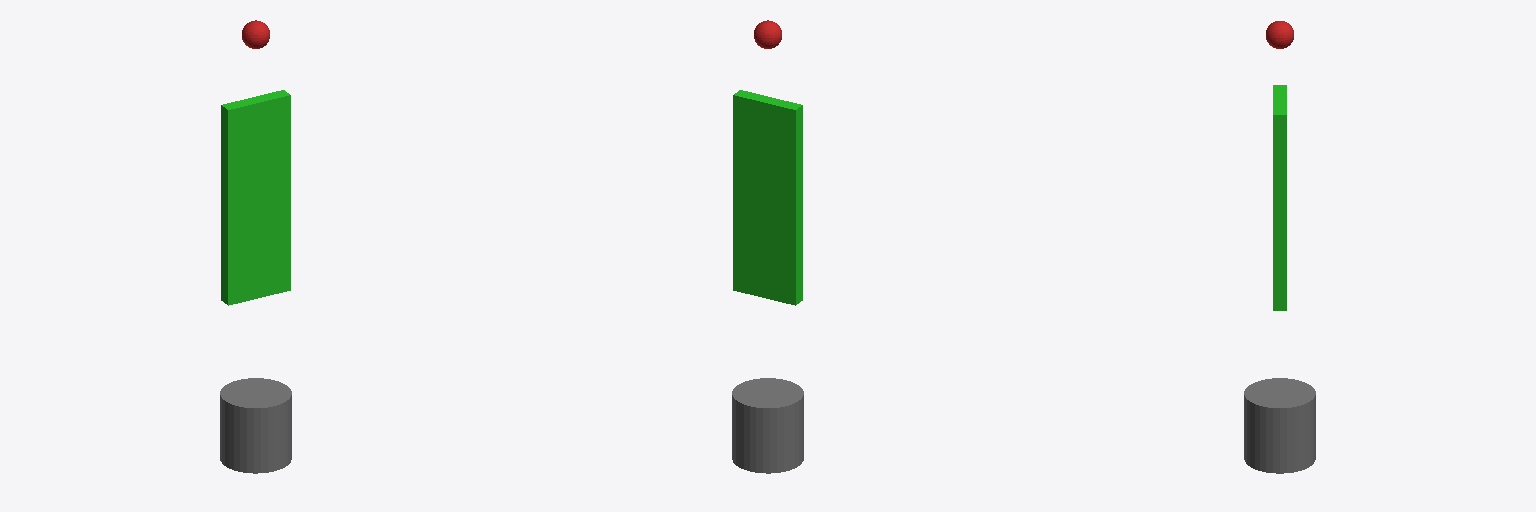
The robot description file, URDF, robot "scara_robot":
<?xml version="1.0" encoding="utf-8"?>
<!-- Descrição do robô SCARA com 3 juntas principais -->
<robot name="scara_robot">

  <!-- Link base -->
  <link name="base_footprint">
      <!-- Representação visual da base -->
      <visual>
          <origin xyz="0 0 0" rpy="0 0 0" />
          <geometry>
              <box size="0.001 0.001 0.001" />
          </geometry>
      </visual>
  </link>

  <!-- Junta rotacional na base -->
  <joint name="base_joint" type="revolute">
      <!-- Origem da junta rotacional -->
      <origin xyz="0 0 0.1" rpy="0 0 0" />
      <!-- Link pai: base_footprint -->
      <parent link="base_footprint"/>
      <!-- Link filho: base_link -->
      <child link="base_link"/>
      <!-- Eixo de rotação -->
      <axis xyz="0 0 1" />
      <!-- Limites da rotação -->
      <limit lower="-3.14" upper="3.14" effort="5.0" velocity="1.0" />
  </joint>

  <!-- Link conectado à junta rotacional -->
  <link name="base_link">
      <visual>
          <origin xyz="0 0 0" rpy="0 0 0" />
          <geometry>
              <cylinder radius="0.05" length="0.1" />
          </geometry>
          <material name="">
              <color rgba="0.5 0.5 0.5 1" />
          </material>
      </visual>
  </link>

  <!-- Junta prismática no meio -->
  <joint name="prismatic_joint" type="prismatic">
      <!-- Origem da junta prismática -->
      <origin xyz="0 0 0.2" rpy="0 0 0" />
      <!-- Link pai: base_link -->
      <parent link="base_link"/>
      <!-- Link filho: arm_link -->
      <child link="arm_link"/>
      <!-- Eixo de movimentação prismática -->
      <axis xyz="0 0 1" />
      <!-- Limites do movimento prismático -->
      <limit lower="0.0" upper="0.3" effort="5.0" velocity="0.5" />
  </joint>

  <!-- Link do braço do robô -->
  <link name="arm_link">
      <visual>
          <origin xyz="0 0 0.15" rpy="0 0 0" />
          <geometry>
              <box size="0.1 0.02 0.3" />
          </geometry>
          <material name="">
              <color rgba="0.2 0.8 0.2 1" />
          </material>
      </visual>
  </link>

  <!-- Junta rotacional antes do end effector -->
  <joint name="end_effector_joint" type="revolute">
      <!-- Origem da junta rotacional -->
      <origin xyz="0 0 0.4" rpy="0 0 0" />
      <!-- Link pai: arm_link -->
      <parent link="arm_link"/>
      <!-- Link filho: end_effector -->
      <child link="end_effector"/>
      <!-- Eixo de rotação -->
      <axis xyz="0 0 1" />
      <!-- Limites da rotação -->
      <limit lower="-1.57" upper="1.57" effort="2.0" velocity="1.0" />
  </joint>

  <!-- End effector -->
  <link name="end_effector">
      <visual>
          <origin xyz="0 0 0" rpy="0 0 0" />
          <geometry>
              <sphere radius="0.02" />
          </geometry>
          <material name="">
              <color rgba="0.8 0.2 0.2 1" />
          </material>
      </visual>
  </link>

</robot>

--- What the picture shows (computed from the rendered views, not written in the file) ---
The picture shows the robot from 3 angles, left to right: view 1: azimuth 30°, elevation 25°; view 2: azimuth 150°, elevation 25°; view 3: azimuth 270°, elevation 25°; orthographic projection.
Robot: scara_robot — 4 links, 3 joints (2 revolute, 1 prismatic); root link base_footprint; default pose: all joints at 0.
Links seen in each view (by area): view 1: arm_link, base_link, end_effector; view 2: arm_link, base_link, end_effector; view 3: base_link, arm_link, end_effector.
Link boxes in pixels (x1=…): arm_link: x1=221, y1=90, x2=290, y2=305; base_link: x1=220, y1=378, x2=291, y2=473; end_effector: x1=242, y1=20, x2=269, y2=48; arm_link: x1=733, y1=90, x2=802, y2=305; base_link: x1=732, y1=378, x2=803, y2=473; end_effector: x1=754, y1=20, x2=781, y2=48; base_link: x1=1244, y1=378, x2=1315, y2=473; arm_link: x1=1273, y1=85, x2=1286, y2=310; end_effector: x1=1266, y1=21, x2=1293, y2=48.
Bounding box of the posed robot: 0.1 × 0.1 × 0.7205 m (x, y, z).
Geometry: primitives only (box / cylinder / sphere), no mesh files.